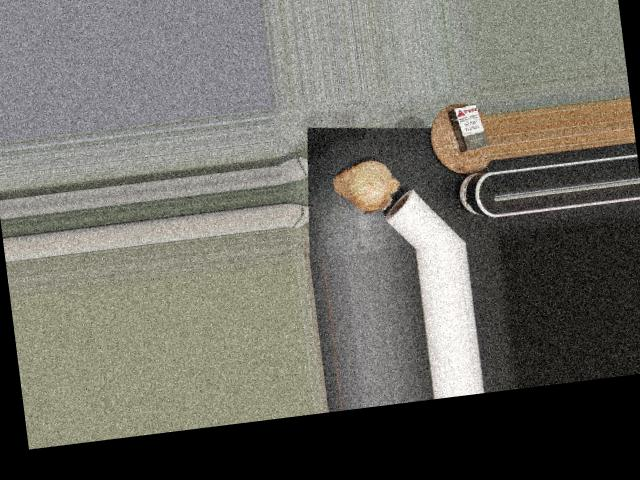onion: (333, 154, 400, 211)
